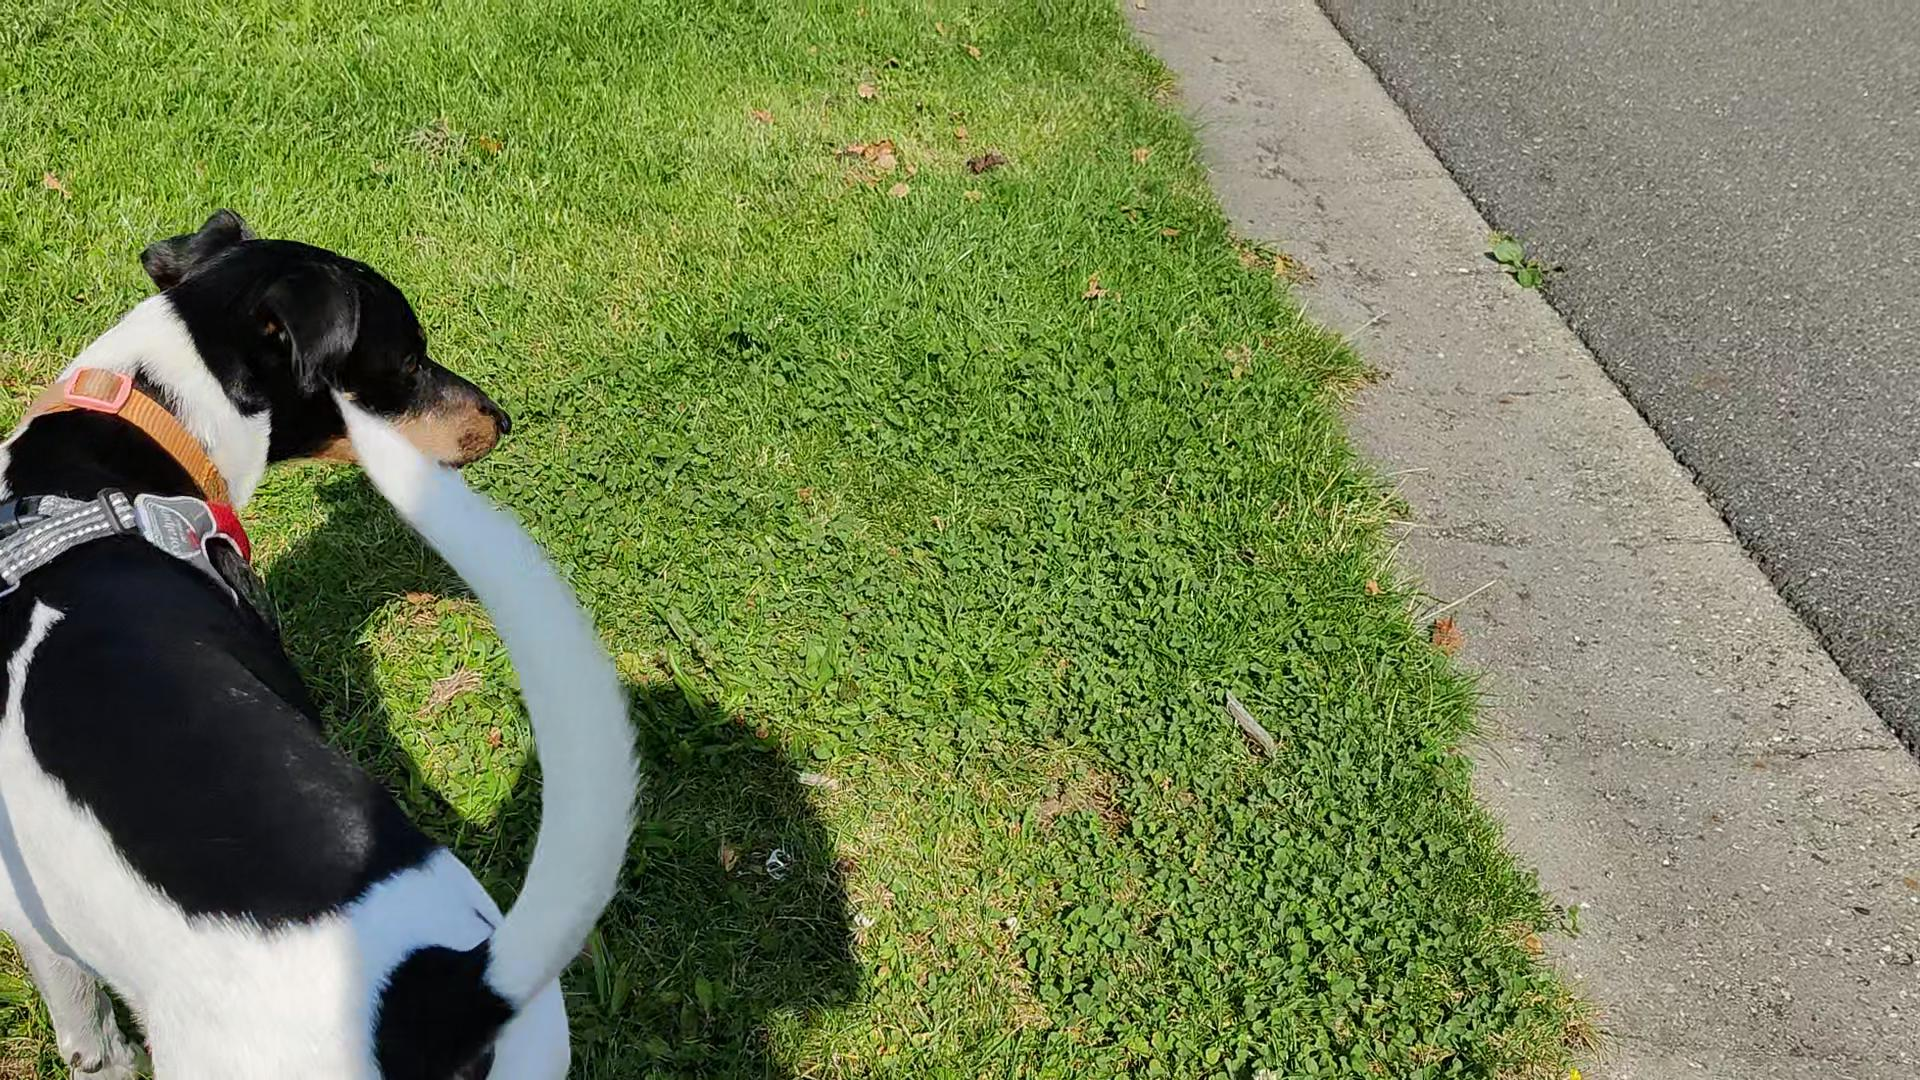Dog: (0, 196, 653, 1079)
